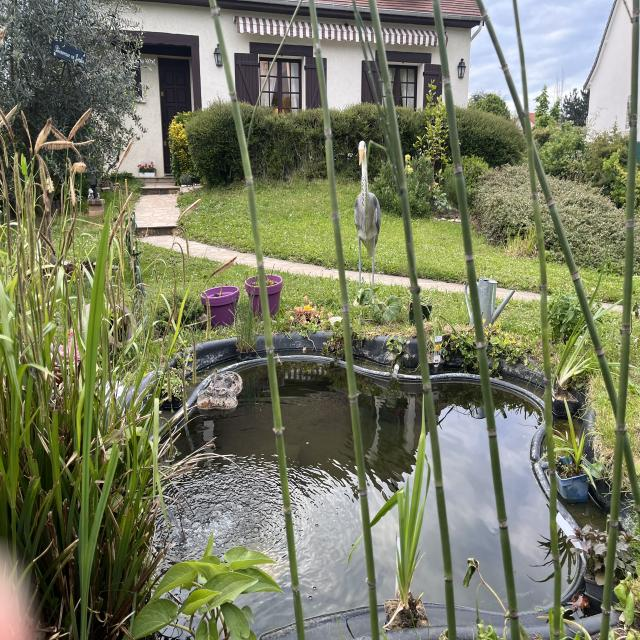Heron: (343, 130, 398, 312)
